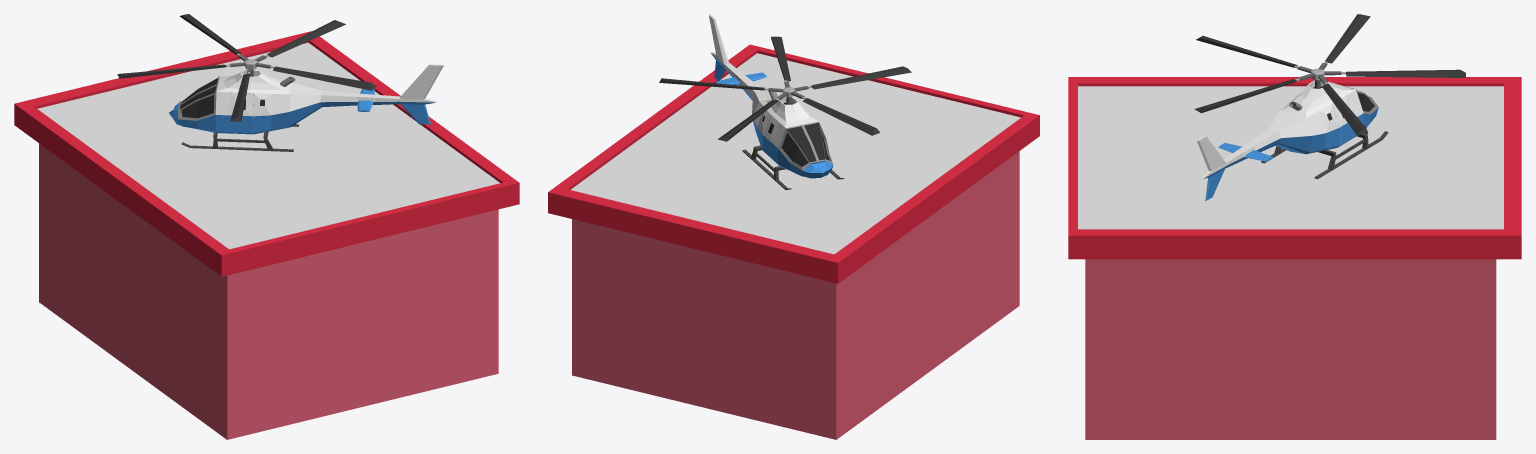
Rendered from Finish.fbx.
3 renders of one model, left to right at view 1: azimuth 30°, elevation 25°; view 2: azimuth 150°, elevation 25°; view 3: azimuth 270°, elevation 25°, orthographic. The views are drawn at different scales.
Parts seen in each view (by area): view 1: Cube, Cube.002; view 2: Cube, Cube.002; view 3: Cube, Cube.002.
Boxes of the visible parts, box(x1,y1,x2,y2) form: Cube: box(14, 31, 519, 439); Cube.002: box(117, 14, 443, 151); Cube: box(548, 44, 1039, 439); Cube.002: box(659, 14, 911, 189); Cube: box(1068, 77, 1521, 439); Cube.002: box(1194, 14, 1465, 200).
Size of the model in its own units: 2743 by 2392 by 3308.
